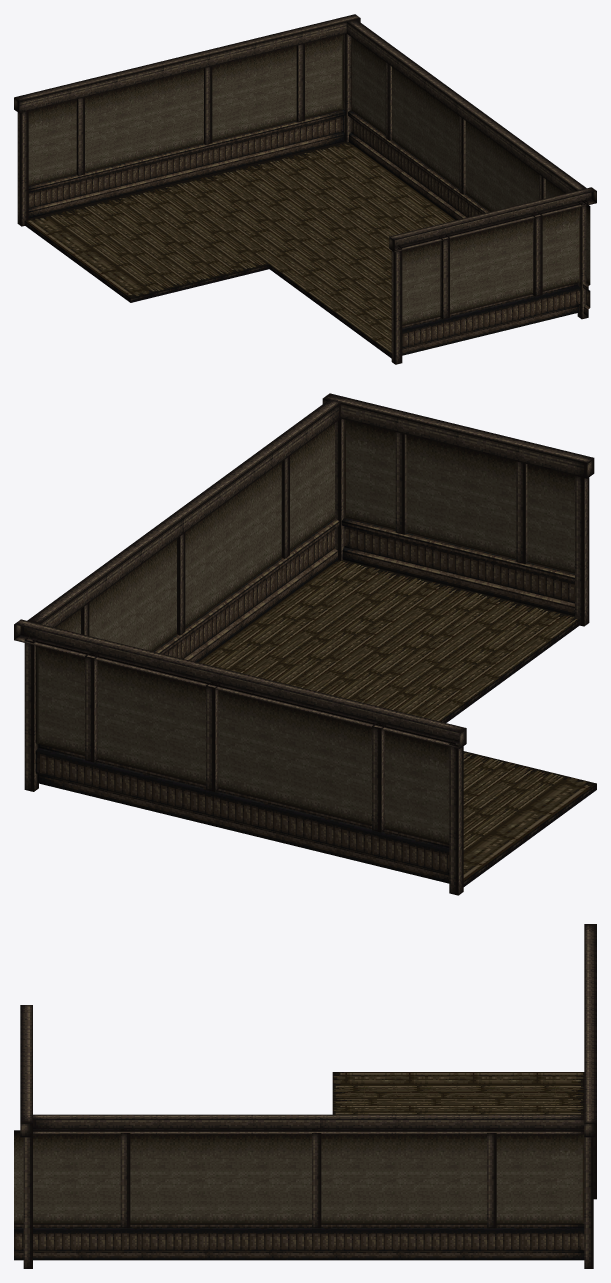
Rendered from EnvBdgMD_WoodHouse_A_Indoor_Inn_B.FBX.
3 renders of one model, top to bottom at view 1: azimuth 30°, elevation 25°; view 2: azimuth 150°, elevation 25°; view 3: azimuth 270°, elevation 25°, orthographic. The views are drawn at different scales.
Visible parts, largest first — view 1: EnvBdgMD_WoodHouse_A_Indoor_Inn_B; view 2: EnvBdgMD_WoodHouse_A_Indoor_Inn_B; view 3: EnvBdgMD_WoodHouse_A_Indoor_Inn_B.
Part boxes in pixels (x1,y1,x2,y2): EnvBdgMD_WoodHouse_A_Indoor_Inn_B: [14, 14, 596, 364]; EnvBdgMD_WoodHouse_A_Indoor_Inn_B: [14, 393, 596, 895]; EnvBdgMD_WoodHouse_A_Indoor_Inn_B: [14, 924, 596, 1268].
Bounding box in the file's own units: 1475 × 520 × 1830.
Materials: 1 (1 with a texture image).
